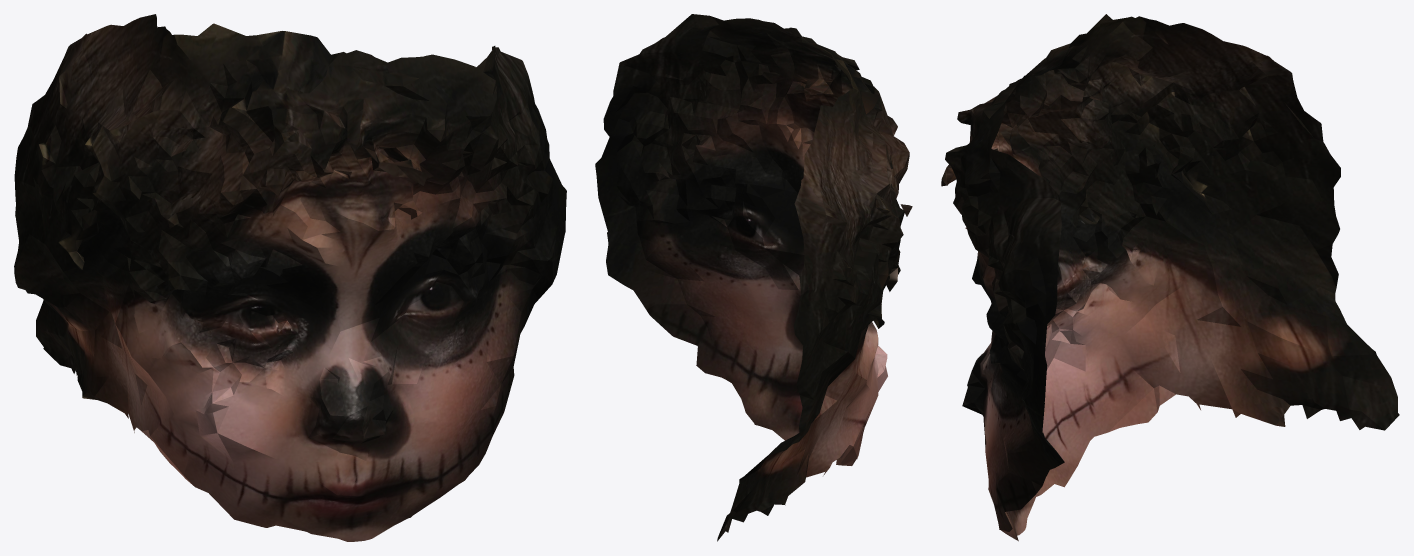
File: El niño de halloween.fbx
3 renders of one model, left to right at view 1: azimuth 30°, elevation 25°; view 2: azimuth 150°, elevation 25°; view 3: azimuth 270°, elevation 25°, orthographic. The views are drawn at different scales.
Parts seen in each view (by area): view 1: Default; view 2: Default; view 3: Default.
Boxes of the visible parts, x1,y1,x2,y2 form: Default: [14, 14, 566, 541]; Default: [595, 14, 912, 541]; Default: [941, 14, 1399, 541].
Bounding box in the file's own units: 16.15 × 18.65 × 16.41.
1 material, 1 textured.
